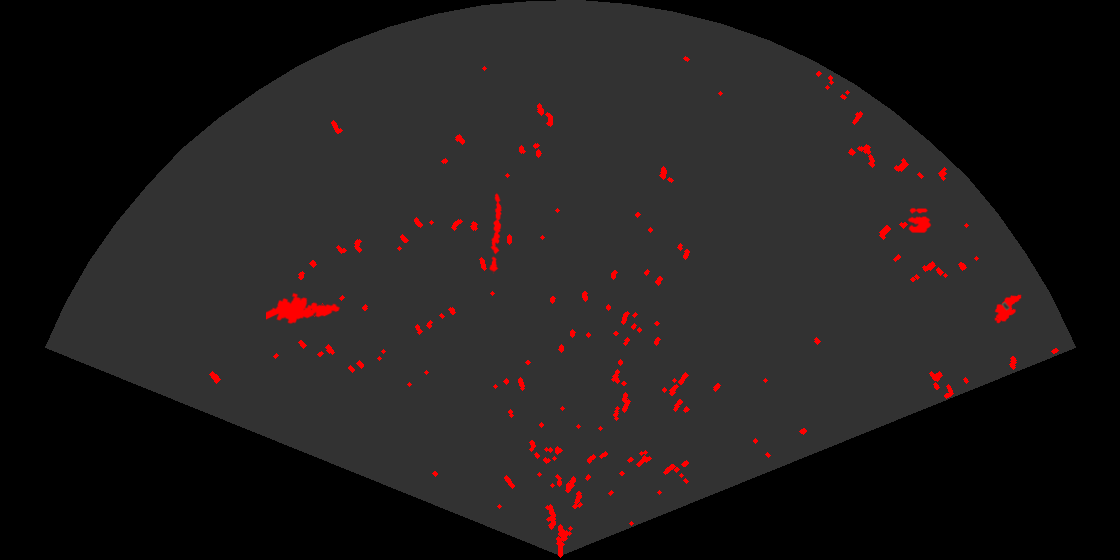AUV: (993, 293, 1023, 325)
ball: (906, 206, 933, 234)
chain: (488, 192, 504, 274)
frogman: (266, 291, 342, 326)
